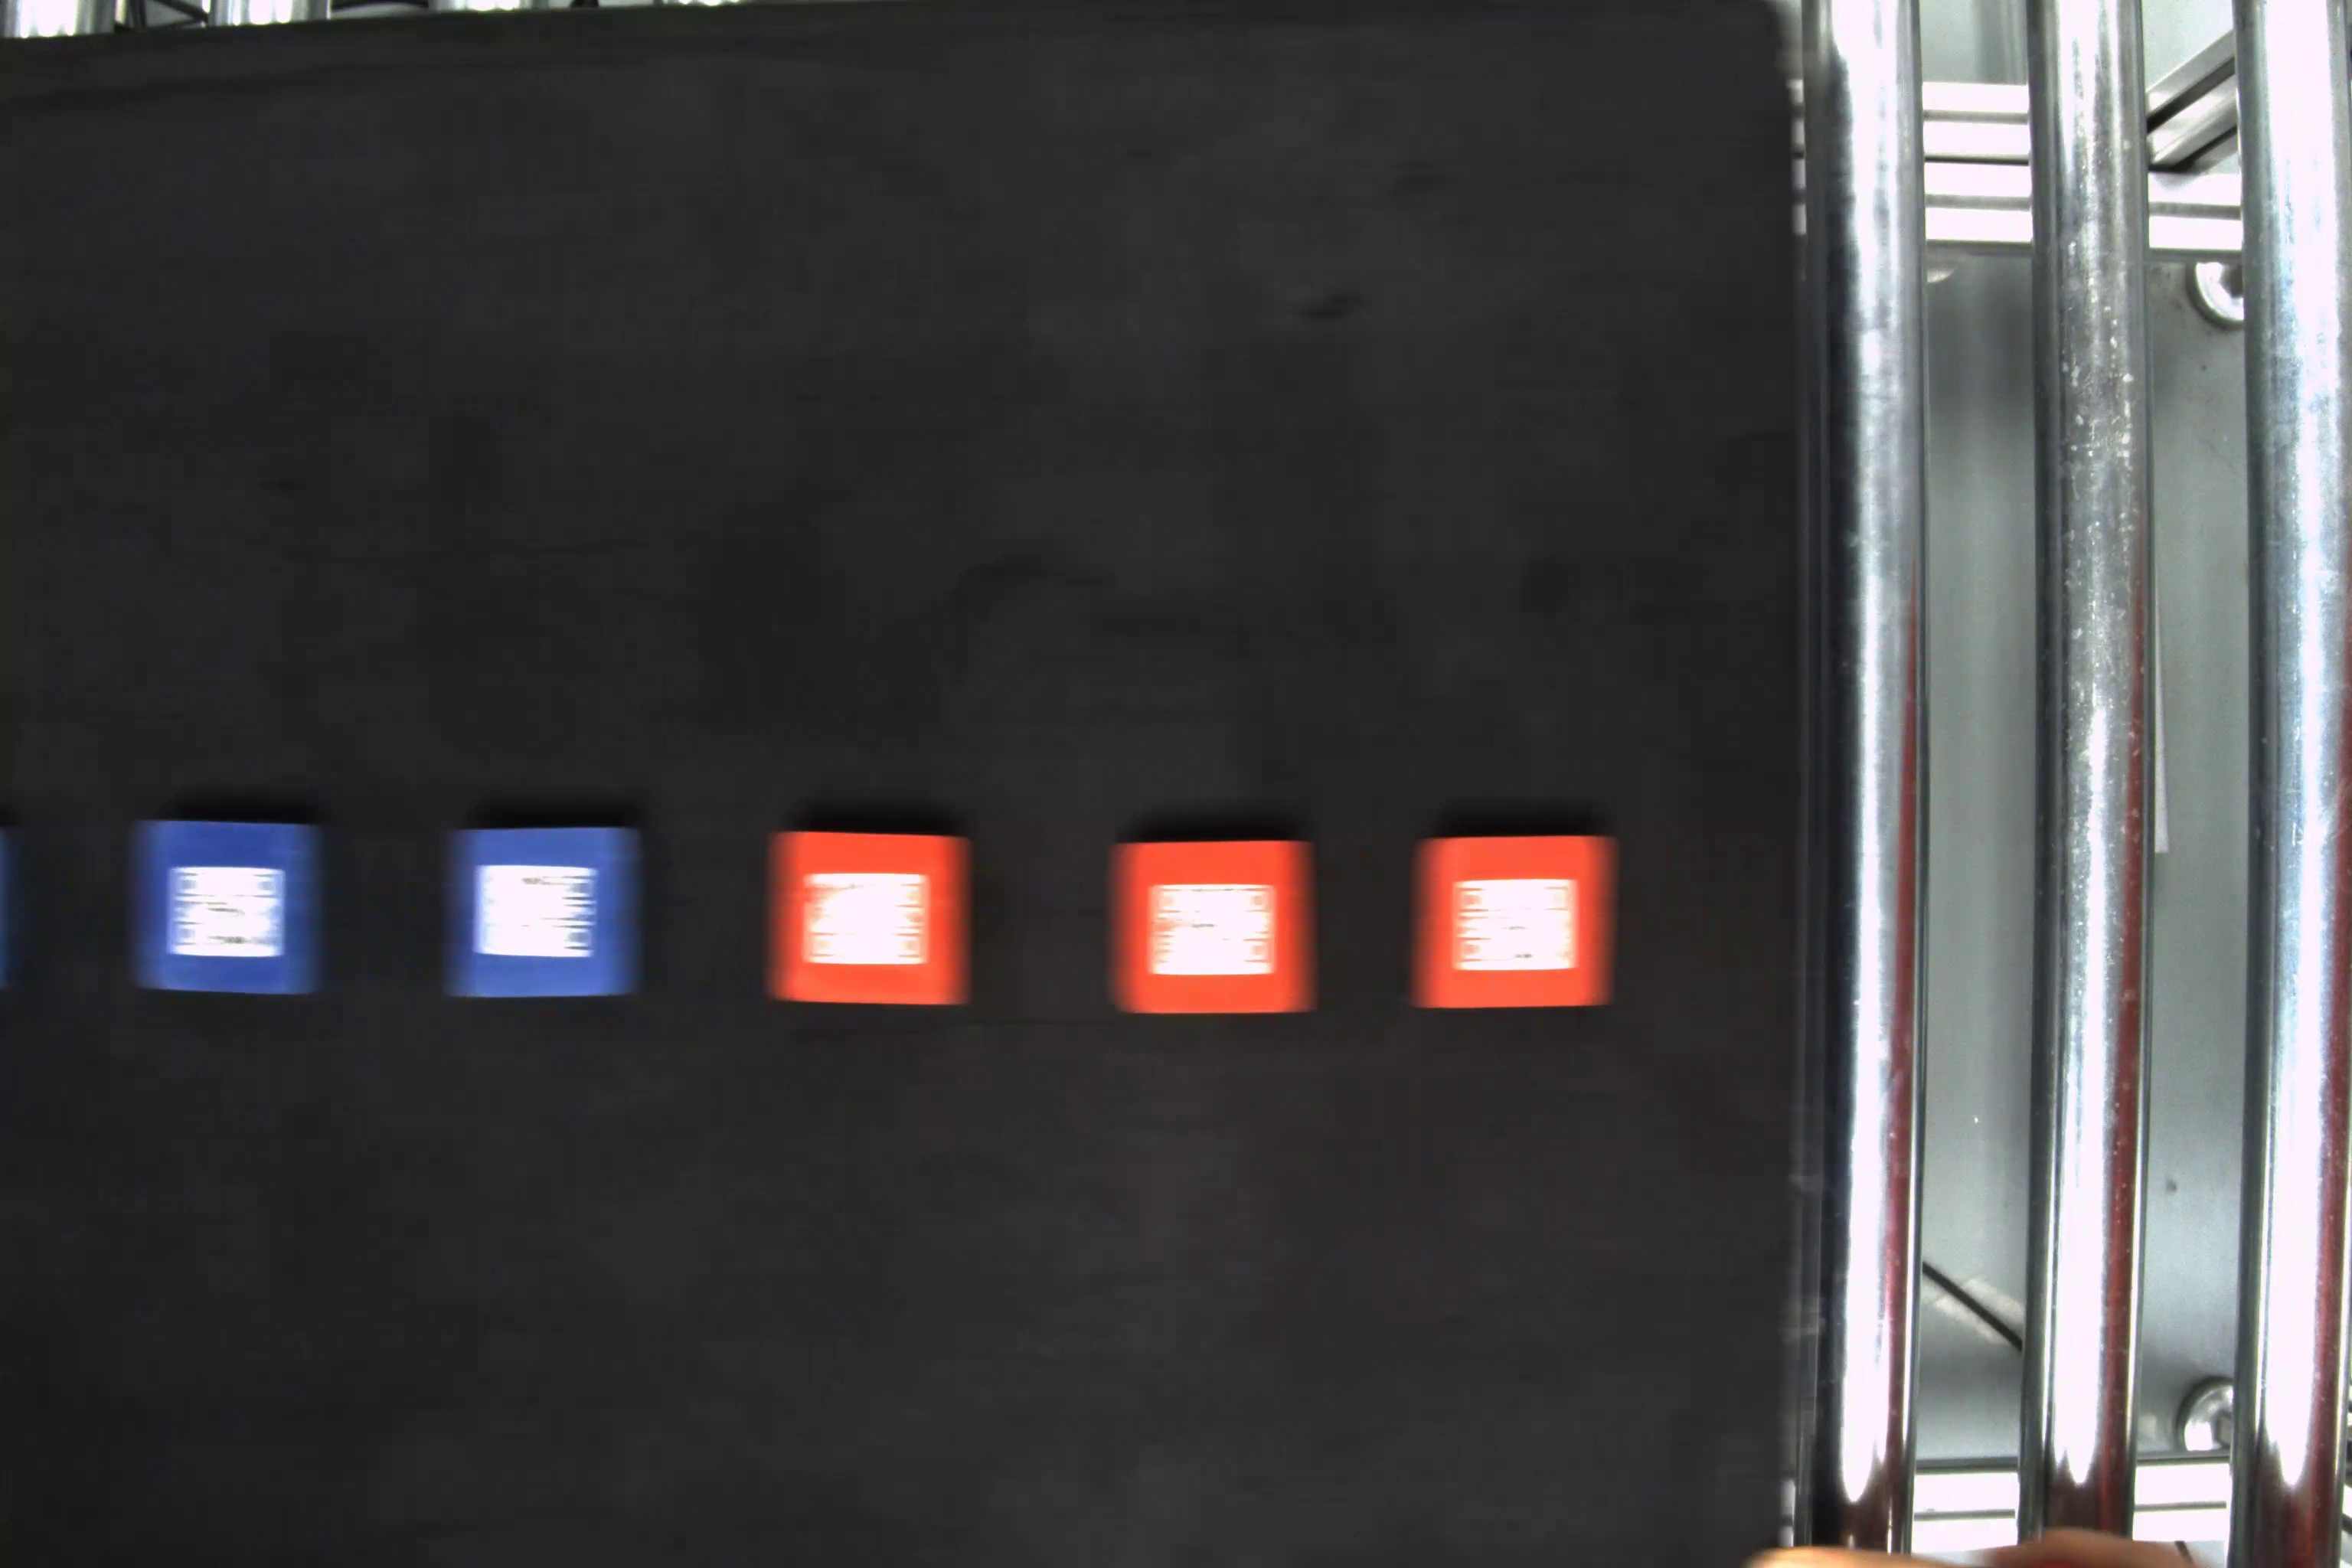wood: (763, 821, 976, 1017), (1412, 829, 1626, 1017), (1109, 831, 1319, 1017), (448, 819, 649, 1001), (126, 819, 325, 996)
